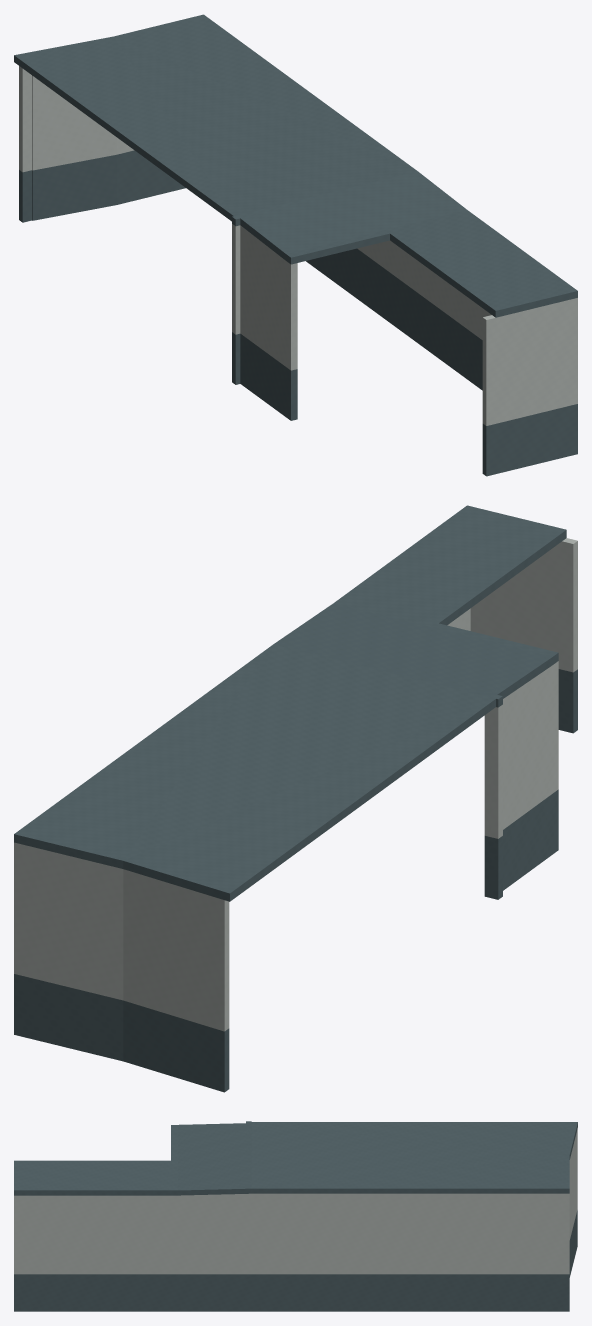
Rendered from AST-STF-G3-015.glb.
The picture shows the model from 3 angles, top to bottom: view 1: azimuth 30°, elevation 25°; view 2: azimuth 150°, elevation 25°; view 3: azimuth 270°, elevation 25°; orthographic projection. The views are drawn at different scales.
Visible parts, largest first — view 1: overhead_staff_bluegrey_paint_care_dogleg, screen_wall_staff_white_paint_care_dogleg, screen_wall_staff_bluegrey_paint_care_dogleg; view 2: overhead_staff_bluegrey_paint_care_dogleg, screen_wall_staff_white_paint_care_dogleg, screen_wall_staff_bluegrey_paint_care_dogleg; view 3: screen_wall_staff_white_paint_care_dogleg, overhead_staff_bluegrey_paint_care_dogleg, screen_wall_staff_bluegrey_paint_care_dogleg.
Boxes of the visible parts, x1,y1,x2,y2 form: overhead_staff_bluegrey_paint_care_dogleg: (14,14,577,317); screen_wall_staff_white_paint_care_dogleg: (19,66,577,425); screen_wall_staff_bluegrey_paint_care_dogleg: (19,150,577,476); overhead_staff_bluegrey_paint_care_dogleg: (14,505,566,901); screen_wall_staff_white_paint_care_dogleg: (14,538,577,1031); screen_wall_staff_bluegrey_paint_care_dogleg: (14,669,577,1092); screen_wall_staff_white_paint_care_dogleg: (14,1129,577,1274); overhead_staff_bluegrey_paint_care_dogleg: (14,1121,577,1195); screen_wall_staff_bluegrey_paint_care_dogleg: (14,1210,577,1311).
Bounding box in the file's own units: 3.98 × 3.39 × 14.09.
4 materials, 4 textured.
